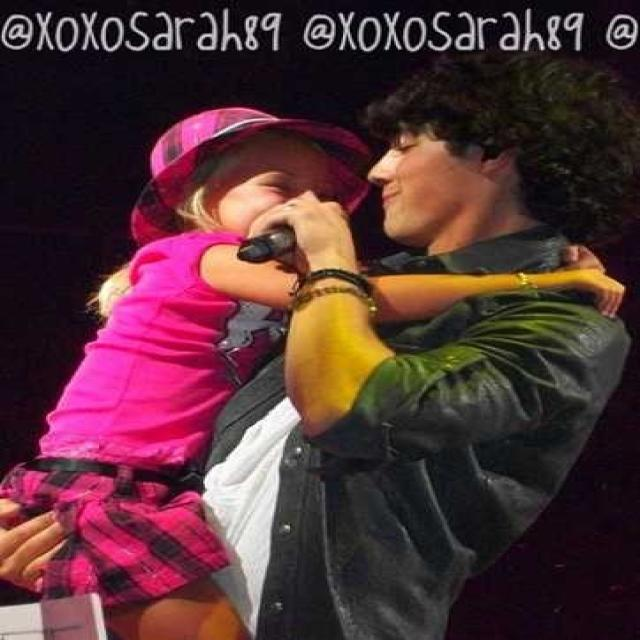microphone: (231, 217, 318, 266)
